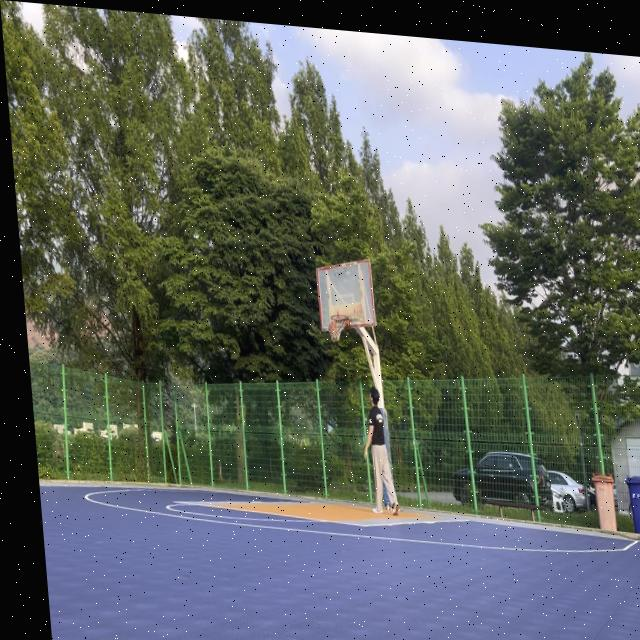basketball: (328, 321, 339, 338)
hoop: (327, 313, 351, 345), (327, 313, 351, 344)
